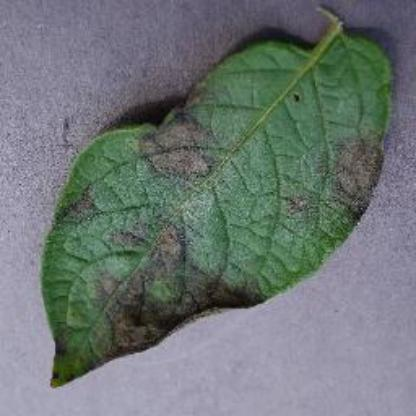Late-Blight: (34, 8, 408, 400)
